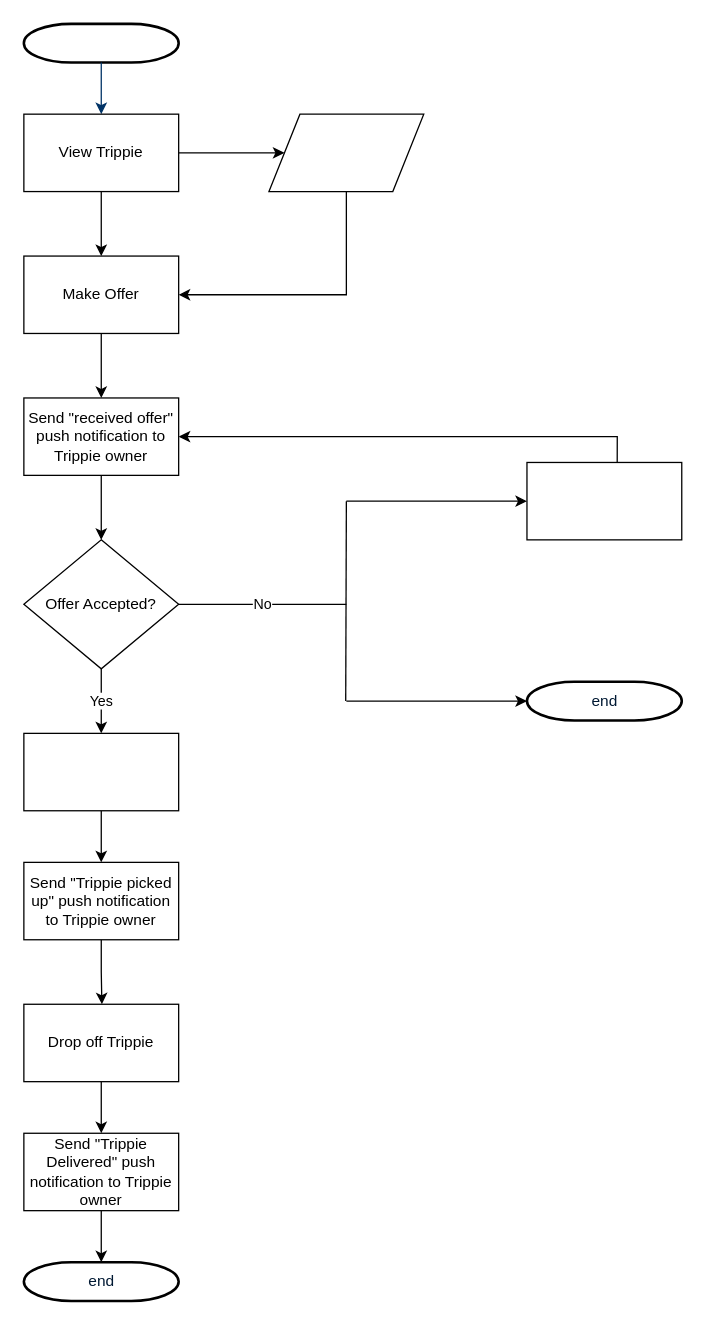
This 704x1324 diagram has some shape labels left out. The box of each missing label's shape, as (x1, y1, x2, y2) in pixels:
Edit Offer: (526, 461, 682, 540)
Enter offer amount: (268, 113, 424, 192)
Pick up Trippie: (23, 732, 179, 811)
start: (22, 22, 179, 63)
